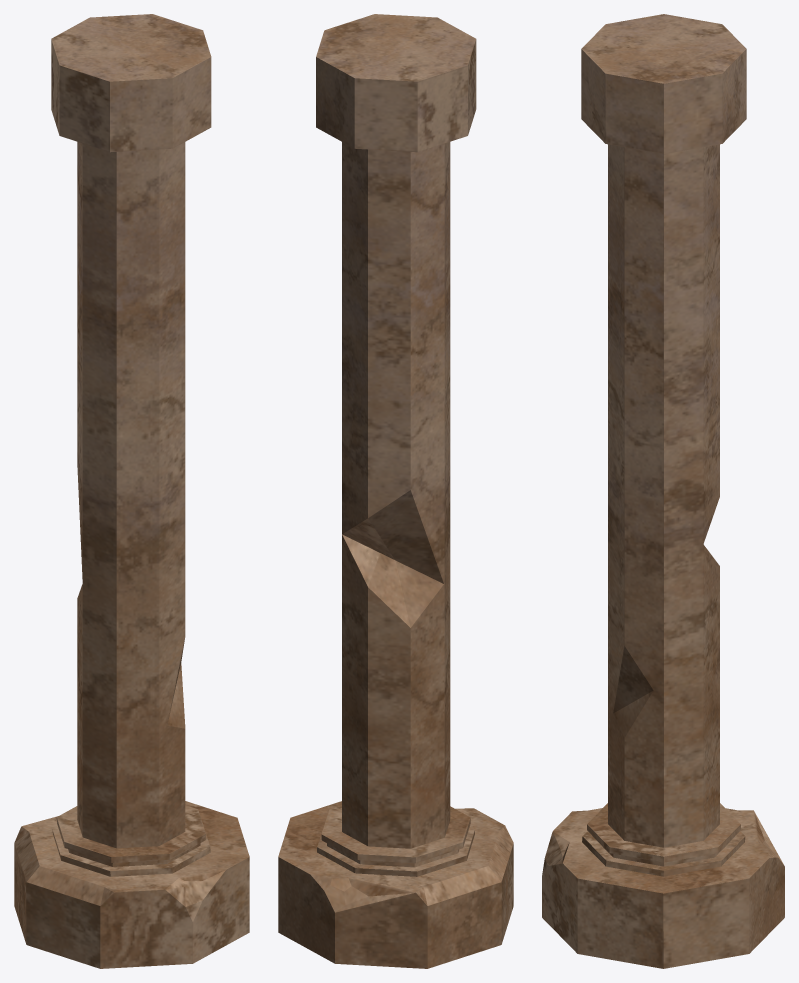
The model's file is Pillar 2.fbx.
The picture shows the model from 3 angles, left to right: view 1: azimuth 30°, elevation 25°; view 2: azimuth 150°, elevation 25°; view 3: azimuth 270°, elevation 25°; orthographic projection.
Visible parts, largest first — view 1: Cylinder.002; view 2: Cylinder.002; view 3: Cylinder.002.
Part boxes in pixels (x1=…): Cylinder.002: x1=14, y1=14, x2=249, y2=968; Cylinder.002: x1=278, y1=14, x2=513, y2=968; Cylinder.002: x1=542, y1=14, x2=784, y2=968.
Bounding box in the file's own units: 282 × 1112 × 282.
1 material, 1 textured.
